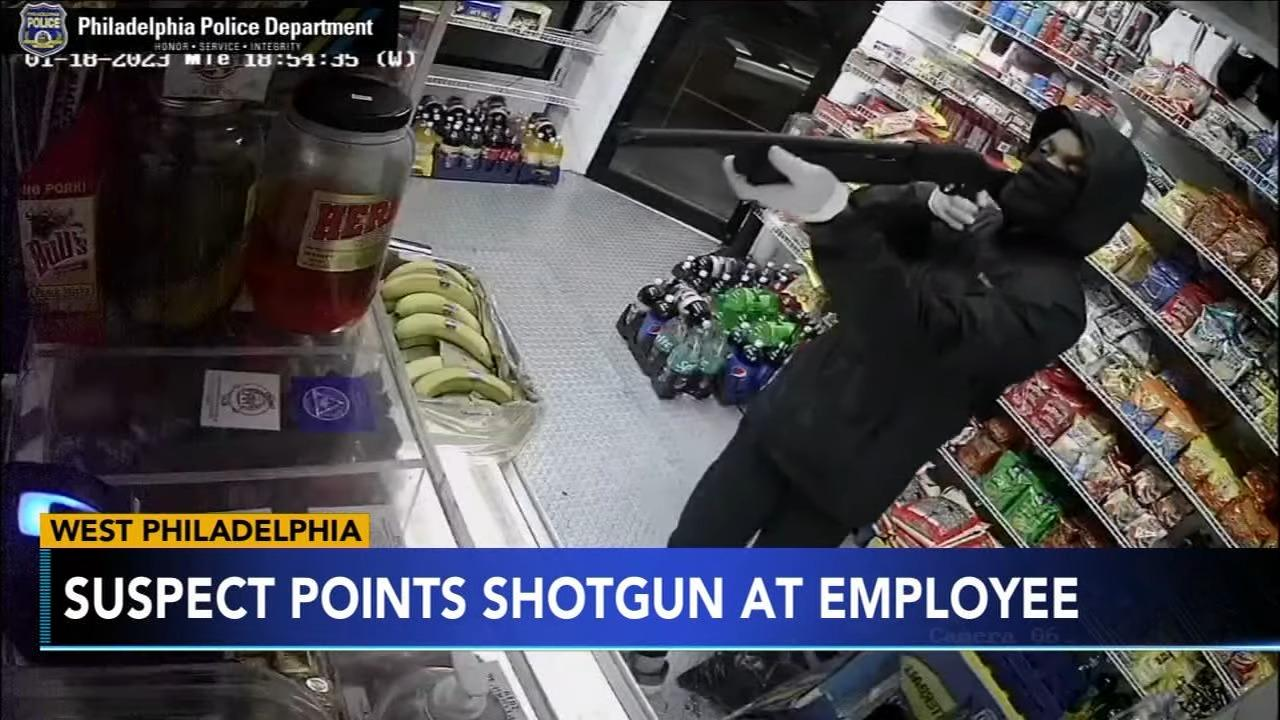shotgun: (624, 119, 997, 229)
